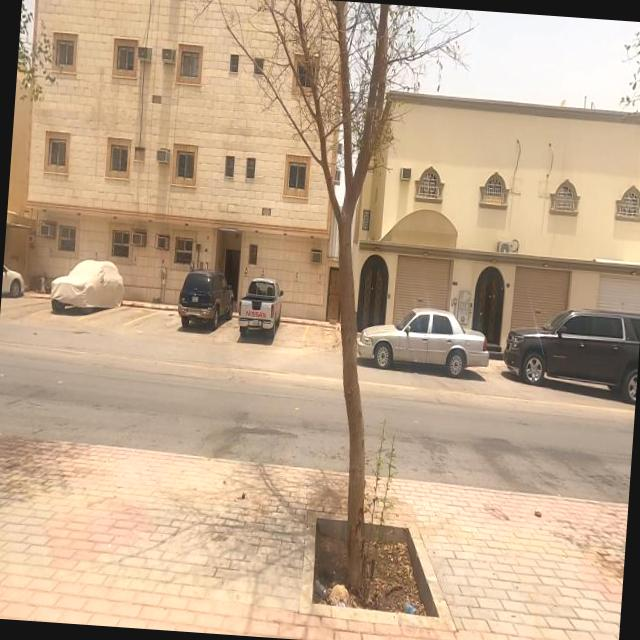debris: (274, 533, 382, 636), (366, 539, 443, 640)
